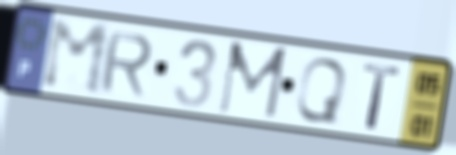3: (171, 37, 219, 110)
M: (214, 39, 290, 123), (40, 17, 113, 99)
Q: (292, 55, 351, 127)
R: (97, 29, 156, 100)
T: (360, 60, 404, 134)
